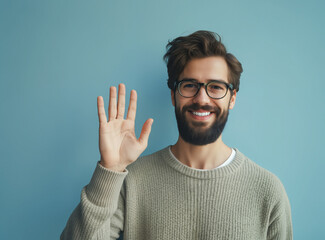Hello: (94, 82, 156, 170)
